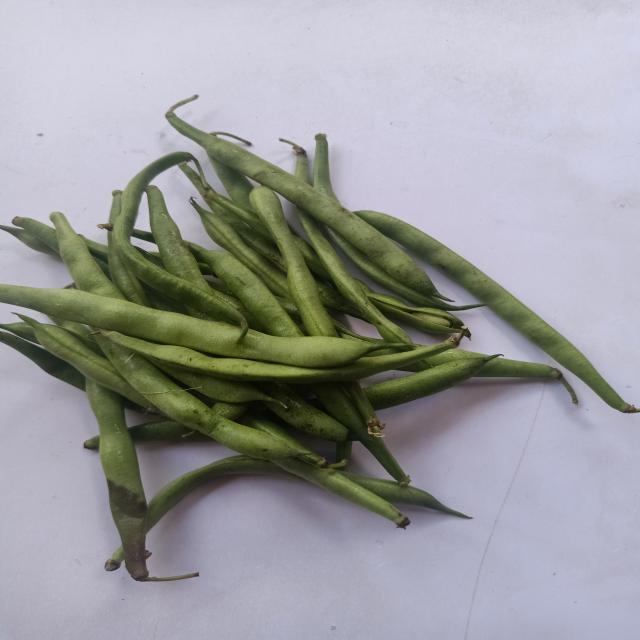Beans: (354, 210, 639, 414), (166, 112, 439, 296), (0, 284, 374, 368), (111, 151, 247, 335), (84, 379, 148, 582)
